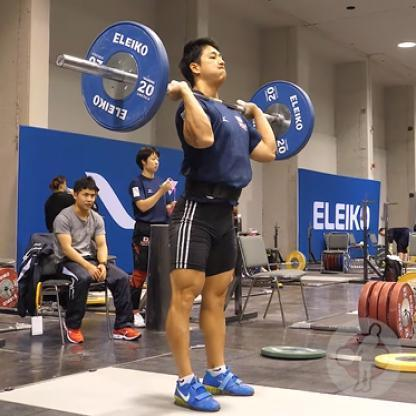barbell: (56, 19, 316, 163)
